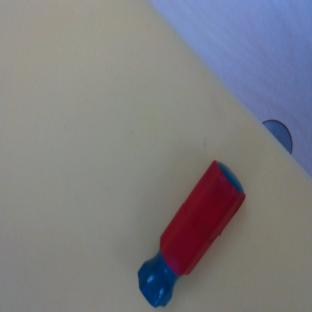part_2_good: (121, 158, 255, 312)
